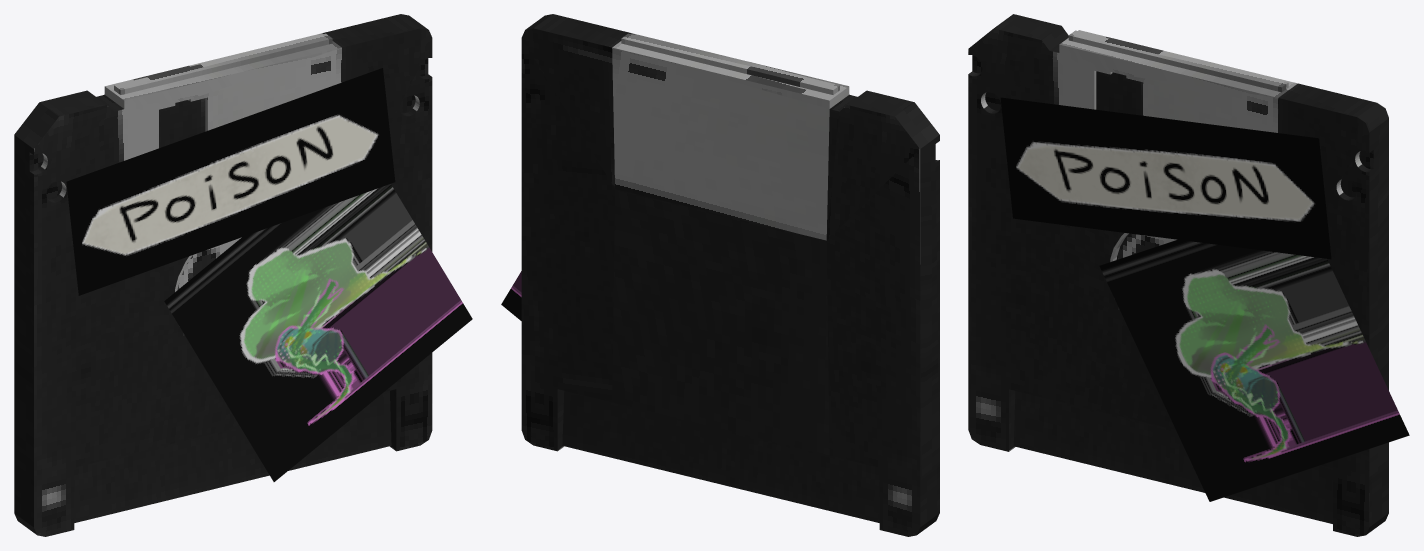
Rendered from D_5glb.glb.
3 renders of one model, left to right at view 1: azimuth 30°, elevation 25°; view 2: azimuth 150°, elevation 25°; view 3: azimuth 330°, elevation 25°, orthographic.
Visible parts, largest first — view 1: Cube.005, Plane.008, Plane.013; view 2: Cube.005, Plane.008; view 3: Cube.005, Plane.008, Plane.013.
Part boxes in pixels (x1,y1,x2,y2): Cube.005: (14, 14, 432, 536); Plane.008: (164, 184, 472, 481); Plane.013: (66, 68, 395, 295); Cube.005: (521, 14, 939, 536); Plane.008: (501, 271, 521, 320); Cube.005: (968, 14, 1388, 536); Plane.008: (1099, 239, 1409, 501); Plane.013: (1000, 97, 1331, 259).
Size of the model in its own units: 3.13 by 2.88 by 0.2458.
3 materials, 3 textured.
